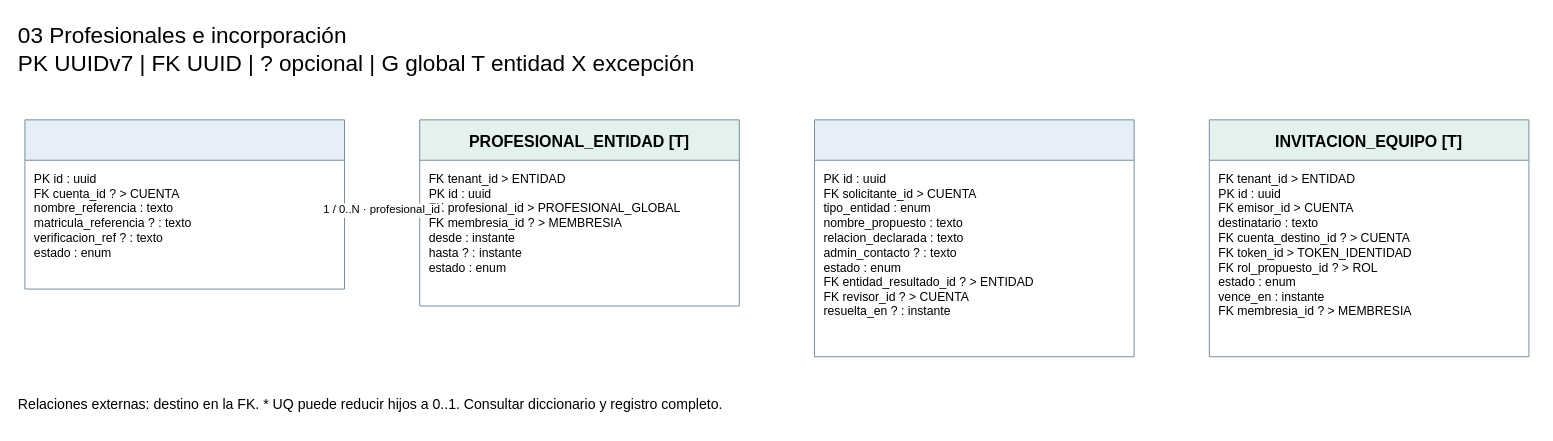
Image size: 1553x441. Some labels were removed from this diagram. The shapes that lost their labels are listed below. From the top down, each one's box as (x1, y1, x2, y2) in pixels, then its label:
(24, 119, 345, 289): PROFESIONAL_GLOBAL [G]
(814, 119, 1134, 357): SOLICITUD_ENTIDAD [G]
